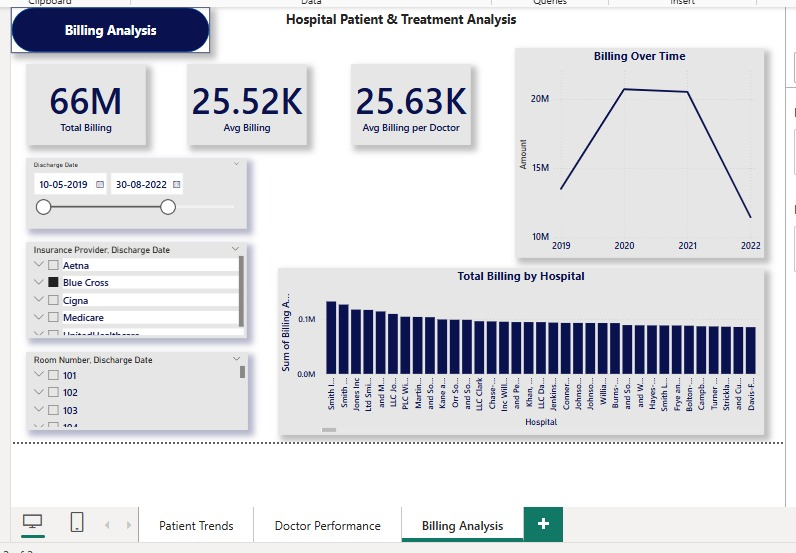

The page's visual inventory and layout, read from the dashboard file:
{"tool":"powerbi","page":{"name":"Billing Analysis","canvas":[1280,720],"ordinal":2},"visuals":[{"type":"textbox","box":[10.1,0,1269.9,60.5],"z":0},{"type":"actionButton","box":[10.1,0,48.7,40.3],"z":1000},{"type":"shape","box":[0,0,329.2,75.6],"z":2000},{"type":"lineChart","title":" Billing Over Time","fields":{"Category":["healthcare data.Discharge Date.Variation.Date Hierarchy.Year","healthcare data.Discharge Date.Variation.Date Hierarchy.Quarter","healthcare data.Discharge Date.Variation.Date Hierarchy.Month","healthcare data.Discharge Date.Variation.Date Hierarchy.Day"],"Y":["healthcare data.Billing Amount"]},"box":[833.5,67.8,411.8,347.3],"z":3000},{"type":"clusteredColumnChart","title":"Total  Billing  by Hospital","fields":{"Category":["healthcare data.Hospital"],"Y":["healthcare data.Billing Amount"]},"box":[441.6,431.6,803.7,276.2],"z":4000},{"type":"card","fields":{"Values":["healthcare data.Avg Billing"]},"box":[291.1,94.3,198.4,134],"z":5000},{"type":"card","fields":{"Values":["healthcare data.Avg Billing per Doctor"]},"box":[562.3,94.3,198.4,134],"z":6000},{"type":"card","fields":{"Values":["healthcare data.Total Billing"]},"box":[24.8,94.3,198.4,134],"z":7000},{"type":"slicer","fields":{"Values":["healthcare data.Discharge Date"]},"box":[24.8,249.7,365.5,117.4],"z":8000},{"type":"slicer","fields":{"Values":["healthcare data.Room Number","healthcare data.Discharge Date"]},"box":[24.8,570.5,367.1,129],"z":9000},{"type":"slicer","fields":{"Values":["healthcare data.Insurance Provider","healthcare data.Discharge Date"]},"box":[24.8,388.6,365.5,158.8],"z":10000}]}

Visuals, with their boxes on the page's 1280x720 design canvas (x1, y1, x2, y2). These are canvas units, not pixel positions in the 796x553 screenshot, which may show the page scaled, cropped or inside an application window:
textbox: 10,0,1280,60
actionButton: 10,0,59,40
shape: 0,0,329,76
" Billing Over Time" lineChart: 834,68,1245,415
"Total  Billing  by Hospital" clusteredColumnChart: 442,432,1245,708
card - healthcare data.Avg Billing: 291,94,490,228
card - healthcare data.Avg Billing per Doctor: 562,94,761,228
card - healthcare data.Total Billing: 25,94,223,228
slicer - healthcare data.Discharge Date: 25,250,390,367
slicer - healthcare data.Room Number x healthcare data.Discharge Date: 25,570,392,700
slicer - healthcare data.Insurance Provider x healthcare data.Discharge Date: 25,389,390,547
